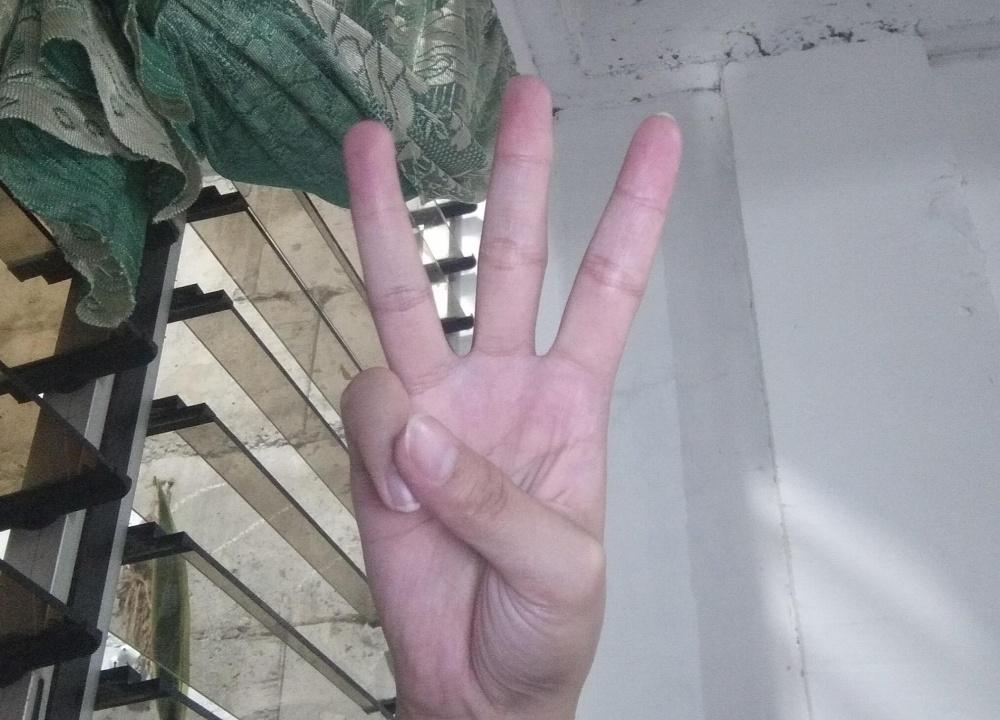w: (338, 71, 684, 704)
